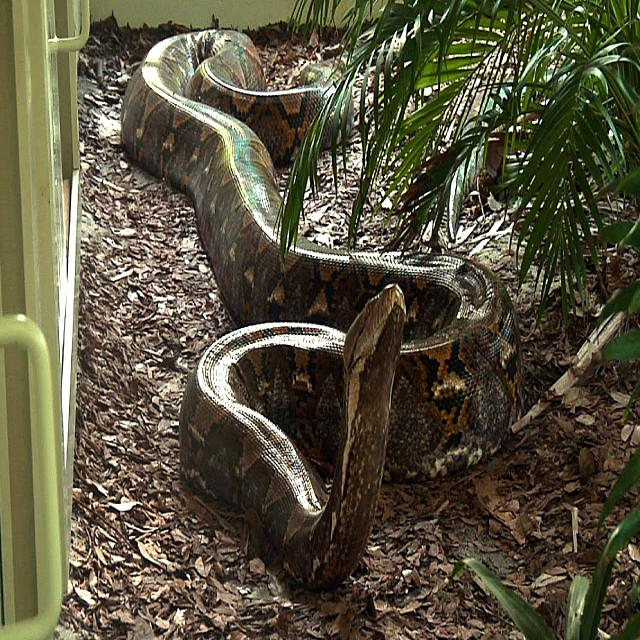Malayopython reticulatus: (121, 31, 522, 587)
